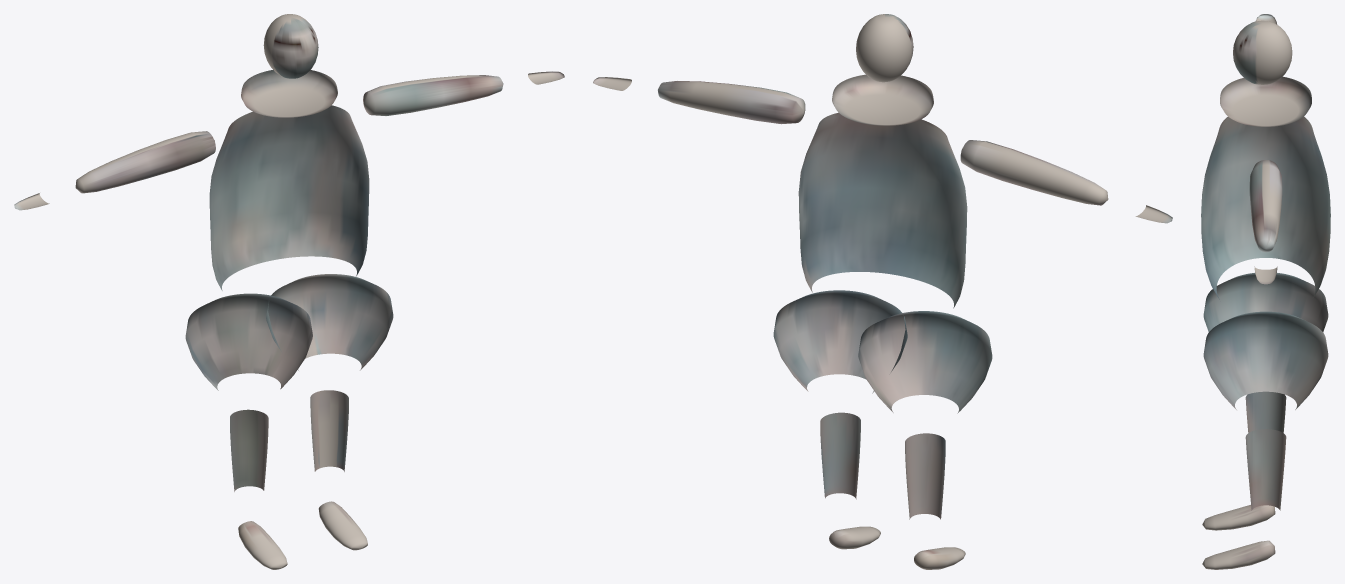
File: body_mesh.glb
3 views of the same model, side by side, from view 1: azimuth 30°, elevation 25°; view 2: azimuth 150°, elevation 25°; view 3: azimuth 270°, elevation 25° (orthographic). The views are drawn at different scales.
Parts seen in each view (by area): view 1: world; view 2: world; view 3: world.
Boxes of the visible parts, x1,y1,x2,y2 form: world: (14, 14, 564, 569); world: (593, 14, 1172, 569); world: (1201, 14, 1330, 569).
Size of the model in its own units: 2.12 by 1.93 by 0.4322.
